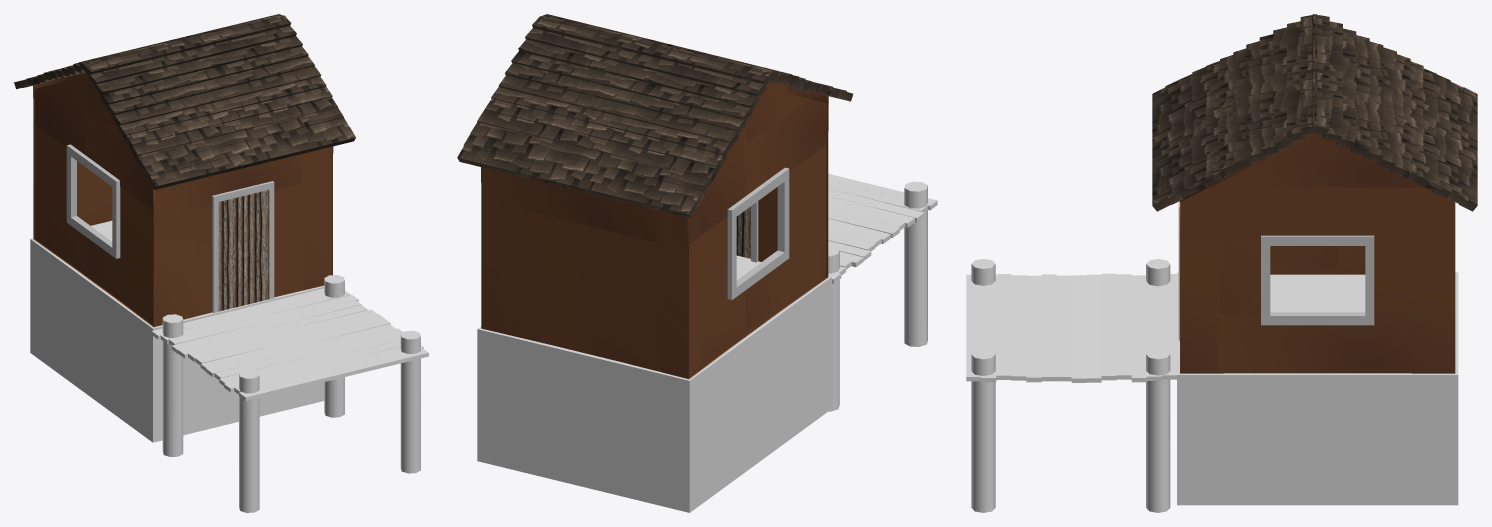
File: Hunter_House (4).fbx
3 renders of one model, left to right at view 1: azimuth 30°, elevation 25°; view 2: azimuth 150°, elevation 25°; view 3: azimuth 270°, elevation 25°, orthographic. The views are drawn at different scales.
Parts seen in each view (by area): view 1: Lake_Shack.001, Cube.012, Cube.010, Cube.009, Cube.008, Cylinder.006, Cylinder.004, Cylinder.005, Cube.014, Cube.015, Cube.011, Cylinder.007; view 2: Lake_Shack.001, Cube.010, Cube.011, Cube.009, Cylinder.004, Cube.014, Cube.012, Cylinder.006, Cube.008; view 3: Lake_Shack.001, Cube.010, Cube.009, Cube.012, Cube.011, Cube.013, Cylinder.007, Cylinder.005, Cylinder.006, Cylinder.004.
Part boxes in pixels (x1=…): Lake_Shack.001: x1=33, y1=72, x2=333, y2=327; Cube.012: x1=82, y1=15, x2=355, y2=189; Cube.010: x1=30, y1=220, x2=324, y2=442; Cube.009: x1=151, y1=288, x2=428, y2=401; Cube.008: x1=218, y1=190, x2=269, y2=311; Cylinder.006: x1=162, y1=314, x2=183, y2=456; Cylinder.004: x1=239, y1=370, x2=259, y2=512; Cylinder.005: x1=400, y1=330, x2=420, y2=473; Cube.014: x1=66, y1=144, x2=120, y2=258; Cube.015: x1=212, y1=181, x2=274, y2=313; Cube.011: x1=14, y1=14, x2=285, y2=89; Cylinder.007: x1=324, y1=275, x2=344, y2=417; Lake_Shack.001: x1=481, y1=82, x2=828, y2=378; Cube.010: x1=477, y1=255, x2=831, y2=512; Cube.011: x1=457, y1=16, x2=771, y2=218; Cube.009: x1=828, y1=174, x2=937, y2=283; Cylinder.004: x1=904, y1=181, x2=927, y2=346; Cube.014: x1=727, y1=167, x2=789, y2=299; Cube.012: x1=538, y1=14, x2=853, y2=101; Cylinder.006: x1=828, y1=246, x2=839, y2=411; Cube.008: x1=736, y1=206, x2=750, y2=258; Lake_Shack.001: x1=1180, y1=133, x2=1455, y2=373; Cube.010: x1=1177, y1=272, x2=1458, y2=505; Cube.009: x1=966, y1=273, x2=1176, y2=382; Cube.012: x1=1152, y1=14, x2=1317, y2=211; Cube.011: x1=1309, y1=14, x2=1477, y2=211; Cube.013: x1=1261, y1=235, x2=1374, y2=325; Cylinder.007: x1=1146, y1=349, x2=1170, y2=512; Cylinder.005: x1=971, y1=349, x2=995, y2=512; Cylinder.006: x1=1146, y1=259, x2=1170, y2=286; Cylinder.004: x1=971, y1=259, x2=995, y2=285.
Size of the model in its own units: 548 by 894 by 1054.
